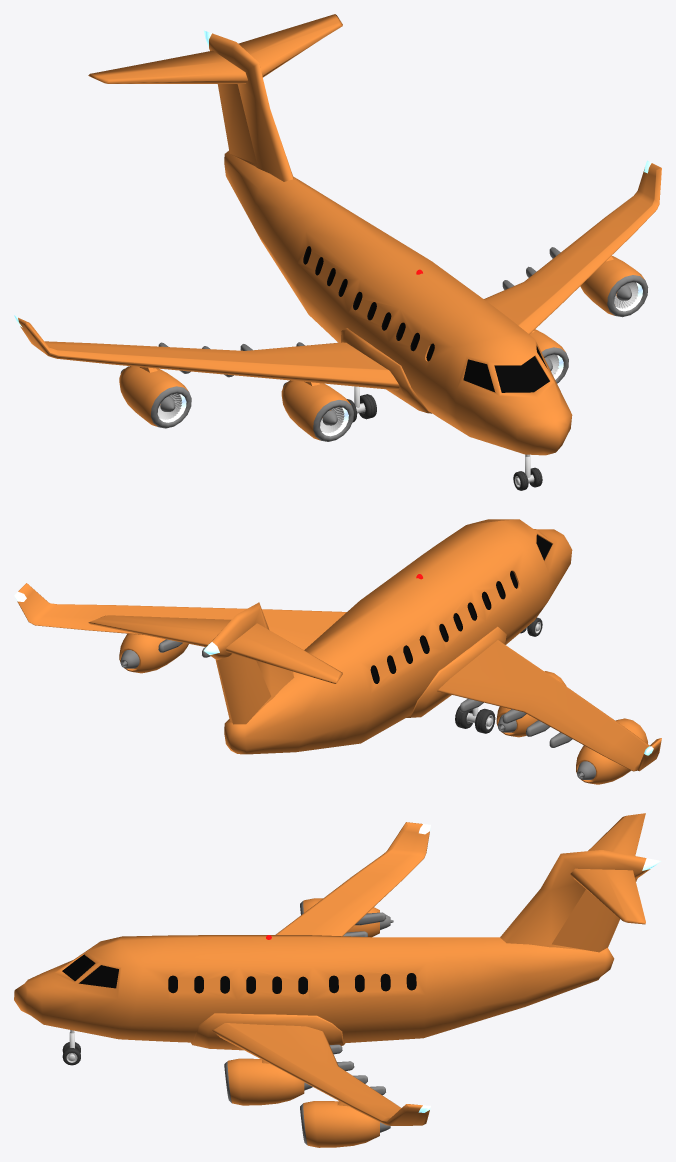
Rendered from egypt plane.glb.
The picture shows the model from 3 angles, top to bottom: view 1: azimuth 30°, elevation 25°; view 2: azimuth 150°, elevation 25°; view 3: azimuth 270°, elevation 25°; orthographic projection. The views are drawn at different scales.
Visible parts, largest first — view 1: Cube.013, Cube.014, Cylinder.009, Cube.015, Cube.019, Cube.017; view 2: Cube.013, Cube.014, Cube.015, Cylinder.009, Cube.019, Cube.017, Cube.021, Cylinder.011; view 3: Cube.013, Cube.014, Cube.015, Cylinder.009, Cube.019, Cube.017, Cube.021.
Boxes of the visible parts, x1,y1,x2,y2 form: Cube.013: (224, 151, 572, 455); Cube.014: (14, 160, 661, 390); Cylinder.009: (119, 255, 648, 441); Cube.015: (88, 14, 342, 181); Cube.019: (217, 84, 256, 164); Cube.017: (341, 328, 431, 413); Cube.013: (224, 519, 572, 754); Cube.014: (14, 583, 661, 771); Cube.015: (88, 602, 342, 720); Cylinder.009: (119, 633, 647, 784); Cube.019: (215, 653, 271, 724); Cube.017: (406, 626, 506, 717); Cube.021: (158, 639, 572, 747); Cylinder.011: (455, 706, 495, 733); Cube.013: (14, 935, 614, 1043); Cube.014: (212, 822, 430, 1125); Cube.015: (500, 813, 661, 952); Cylinder.009: (224, 898, 393, 1147); Cube.019: (552, 878, 637, 952); Cube.017: (191, 1013, 345, 1050); Cube.021: (329, 912, 385, 1095).
Size of the model in its own units: 12.57 by 4.39 by 12.2.
